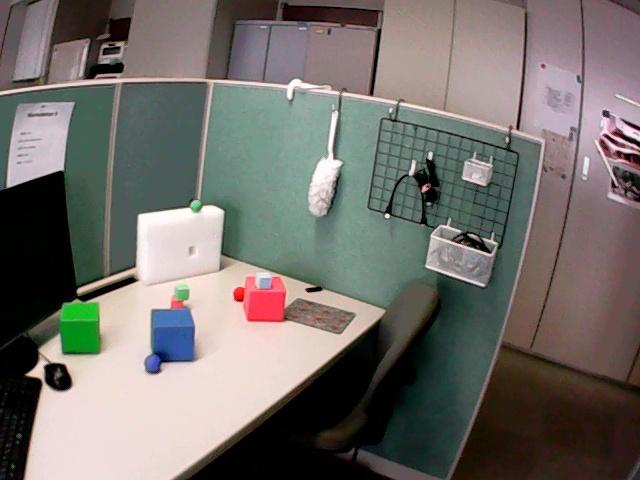blue_block: (151, 308, 194, 361), (255, 272, 273, 290)
red_block: (243, 276, 285, 321), (171, 295, 183, 308)
